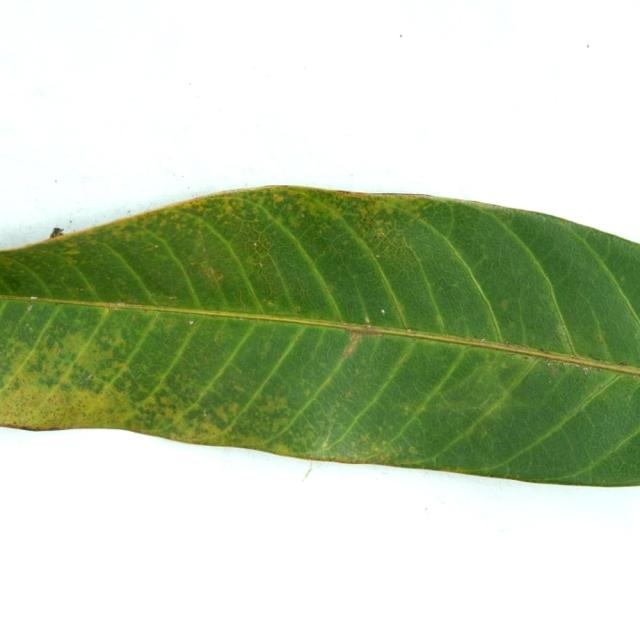Mango: (0, 187, 639, 485)
Powdery_Mildew: (137, 203, 269, 252), (294, 194, 406, 240), (162, 394, 259, 442), (107, 219, 194, 266), (8, 378, 74, 424), (149, 387, 195, 419), (254, 394, 285, 415), (264, 188, 295, 208), (220, 200, 242, 217), (63, 247, 83, 257), (226, 401, 240, 414), (167, 213, 182, 222), (407, 445, 418, 454), (190, 198, 201, 204)
